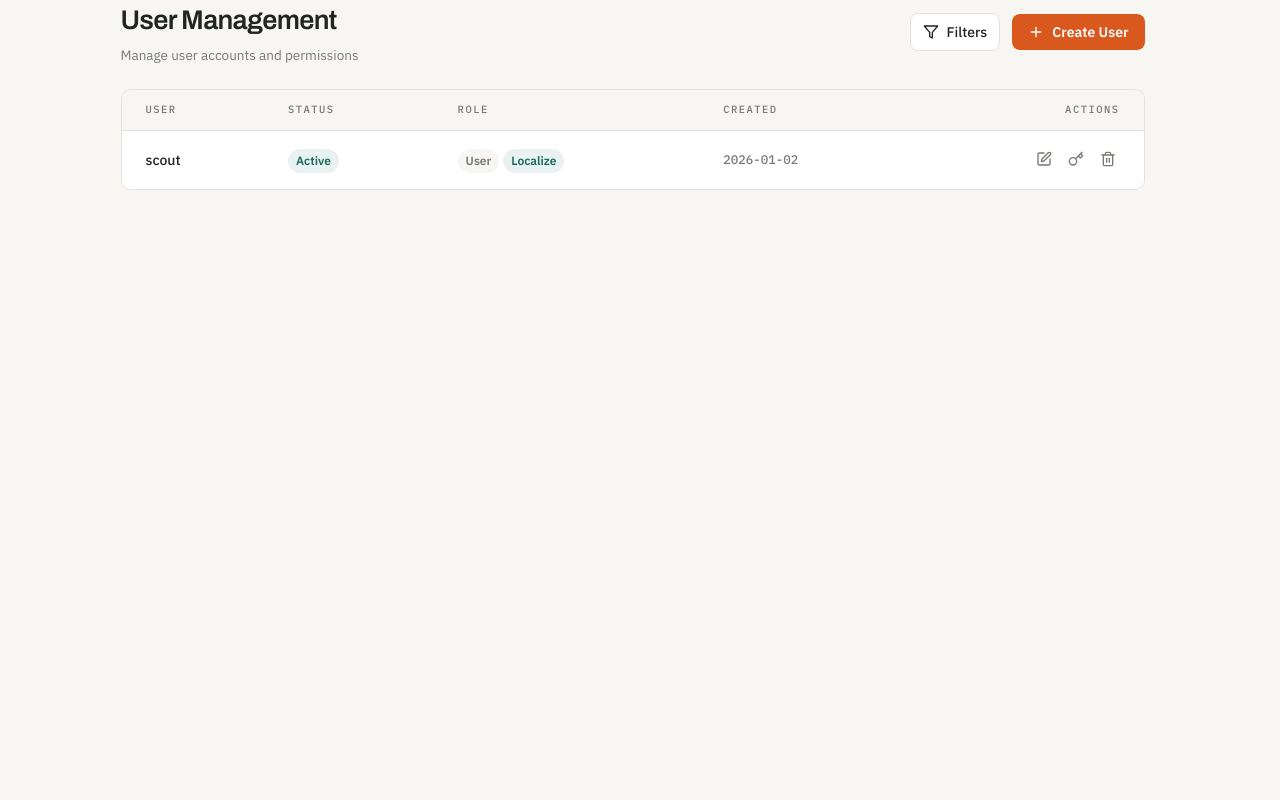
UserManagementPage can_localize › explains each permission toggle in the create dialog
Click the button "Create User".
click(1078, 32)  # box [1012,14,1145,50]
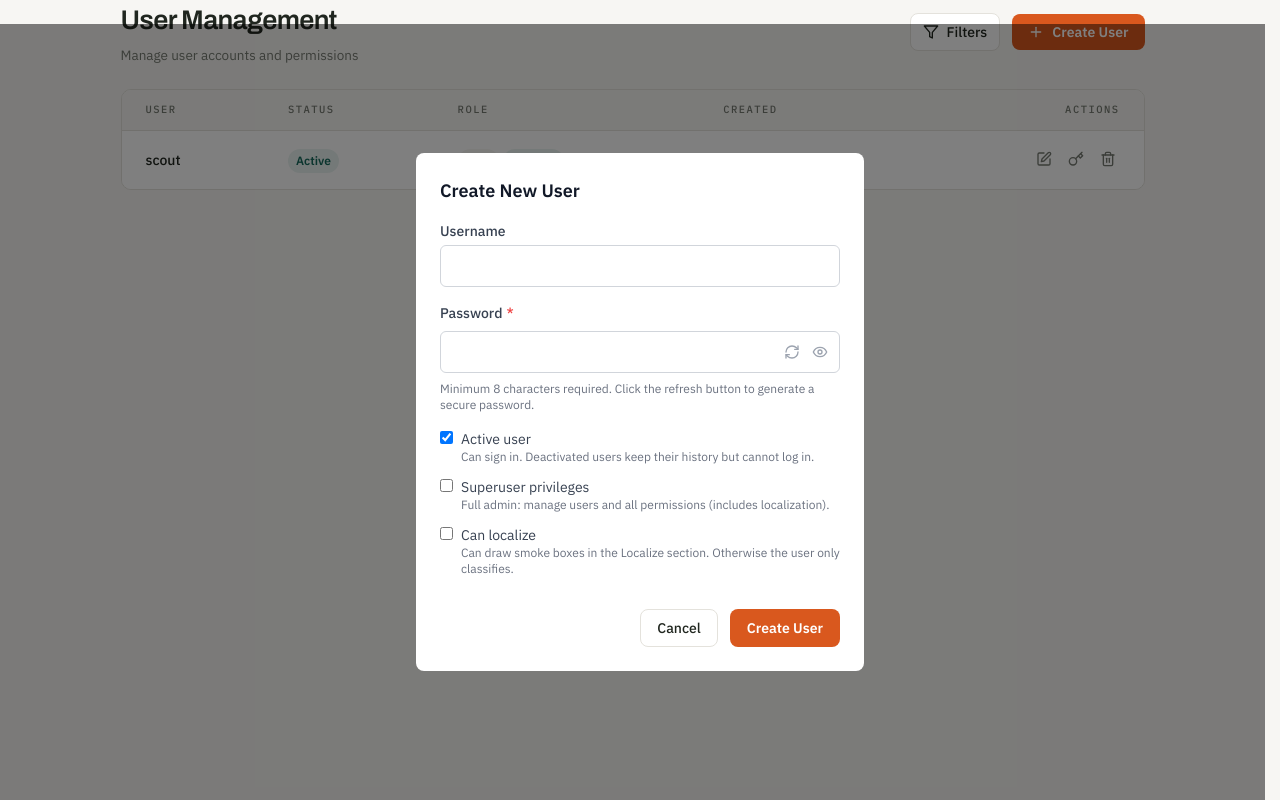
expect the text "Can sign in. Deactivated users keep their history but cannot log in." is shown: met, box [461,449,814,465]
expect the text "Full admin: manage users and all permissions (includes localization)." is shown: met, box [461,497,830,513]
expect the text "Can draw smoke boxes in the Localize section. Otherwise the user only classifies." is shown: met, box [461,545,840,576]
